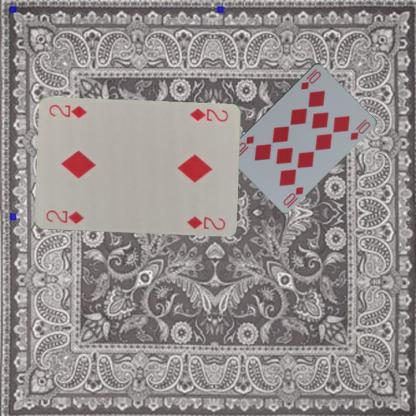10d: (298, 66, 323, 91), (280, 184, 305, 209)
2d: (186, 106, 230, 123), (43, 208, 84, 226)
